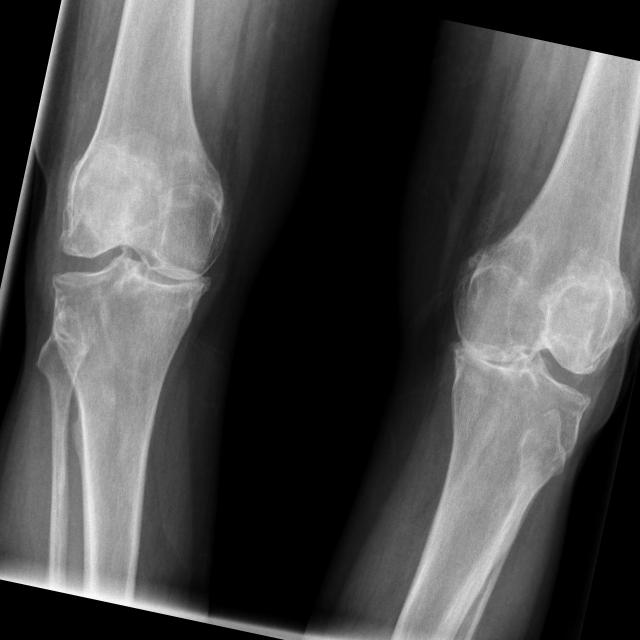Knee: (423, 258, 636, 460), (31, 173, 230, 369)
